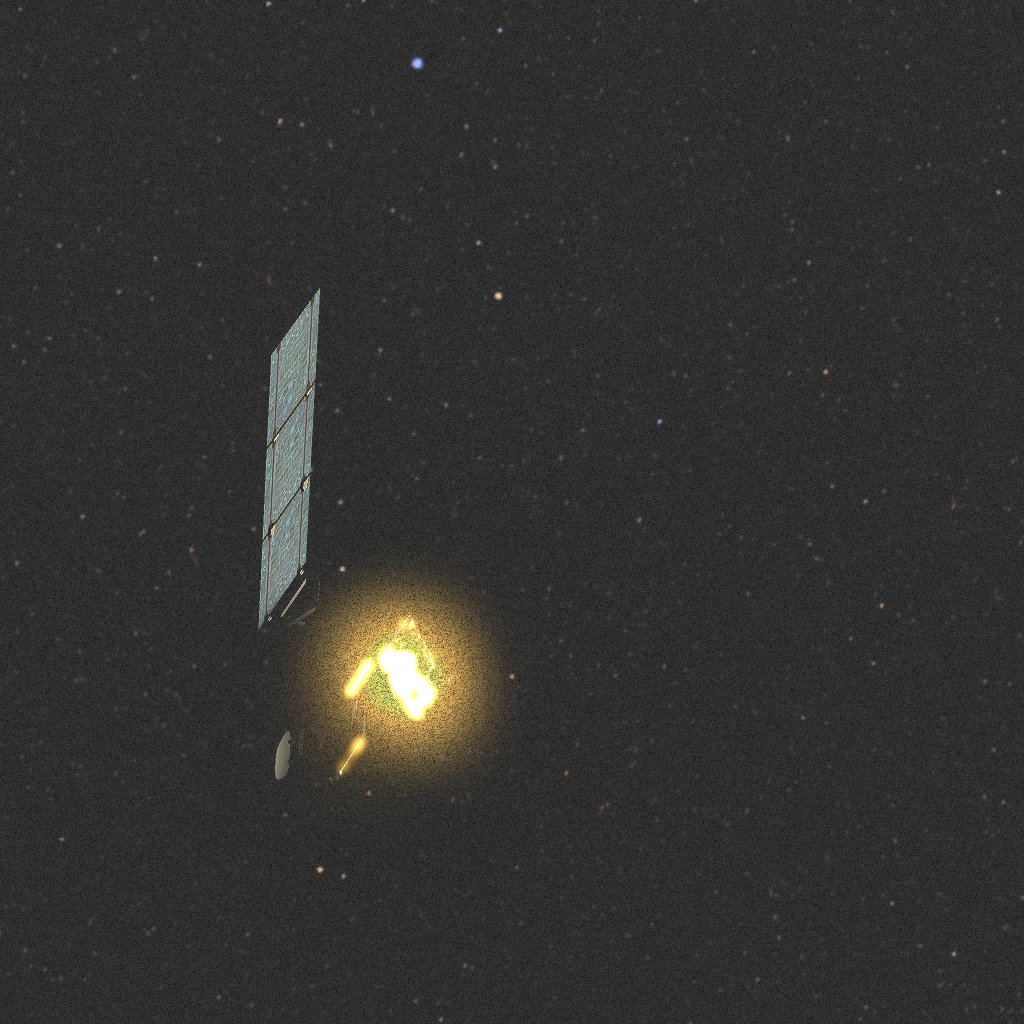earth_observation_sat_1: (256, 287, 456, 784)
